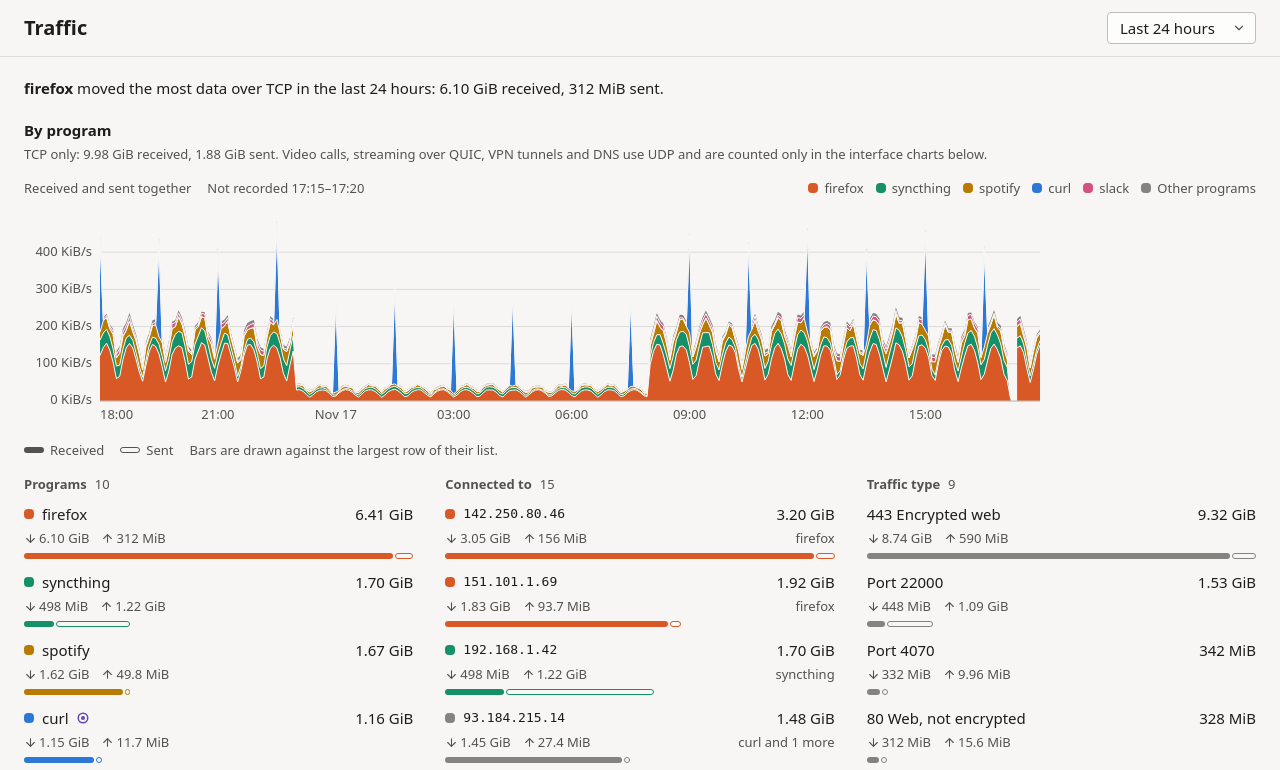
Test: Traffic › keeps a program's color when the range changes
The width and height of the screenshot is (1280, 770).
Check: the button with aria-label "firefox: " is shown, box [16,497,421,565]
Select "Last 5 minutes" in the dropdown named "Time range": {"x": 1182, "y": 28} [1107,12,1256,44]
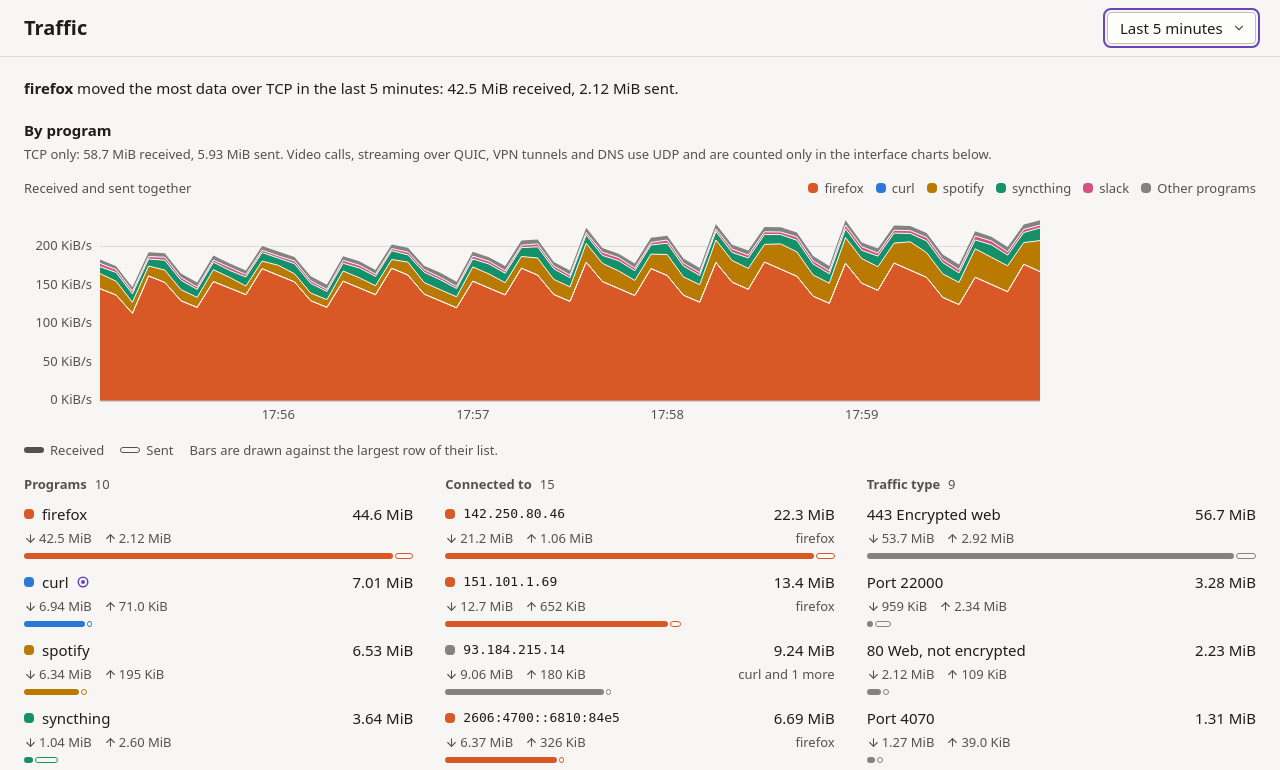
Check: the text "in the last 5 minutes" is shown, box [24,78,678,98]
